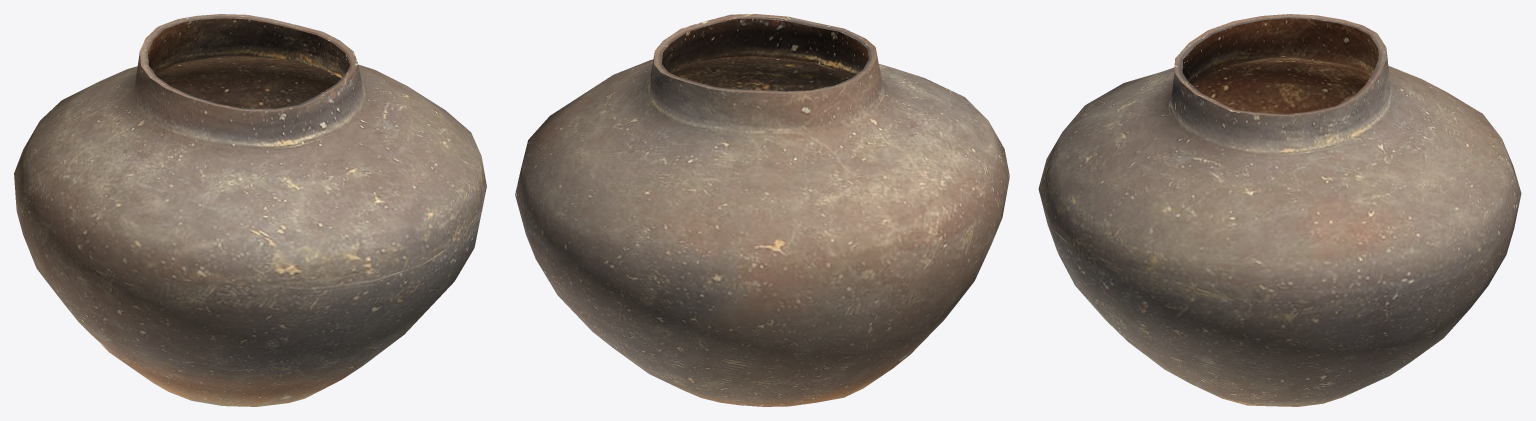
The model's file is antiquity7_71.fbx.
3 views of the same model, side by side, from view 1: azimuth 30°, elevation 25°; view 2: azimuth 150°, elevation 25°; view 3: azimuth 270°, elevation 25° (orthographic). The views are drawn at different scales.
Visible parts, largest first — view 1: 0502_T; view 2: 0502_T; view 3: 0502_T.
Part boxes in pixels (x1,y1,x2,y2): 0502_T: [14, 14, 486, 406]; 0502_T: [515, 14, 1009, 406]; 0502_T: [1038, 14, 1521, 406].
Size of the model in its own units: 37.88 by 28.18 by 38.25.
1 material, 1 textured.
